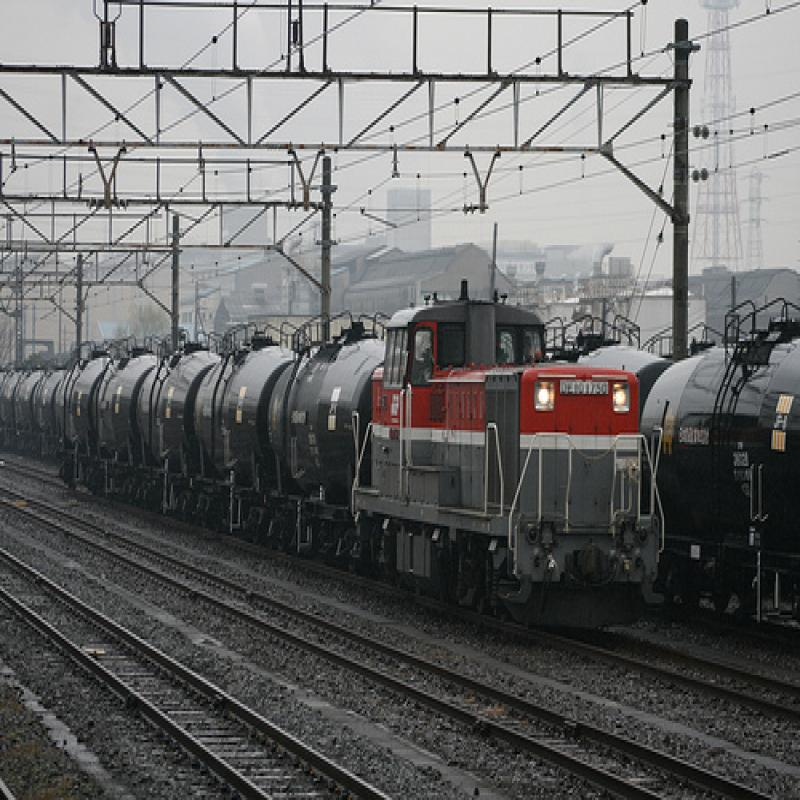train: (3, 282, 668, 643), (550, 294, 800, 635)
